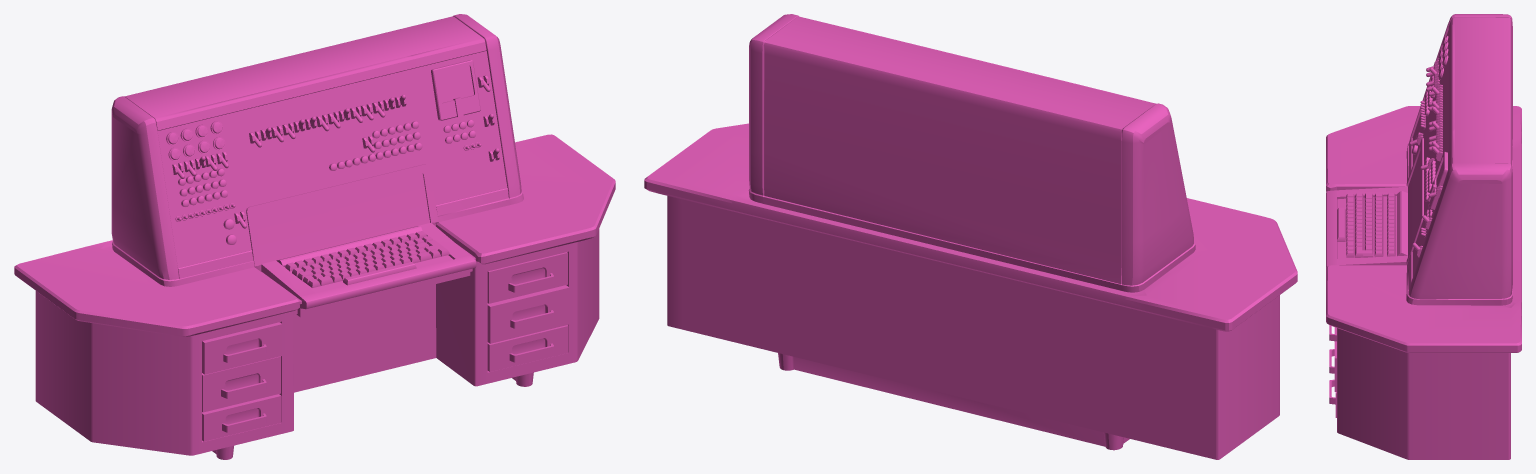
File: UNIVAC.glb
3 renders of one model, left to right at view 1: azimuth 30°, elevation 25°; view 2: azimuth 150°, elevation 25°; view 3: azimuth 270°, elevation 25°, orthographic. The views are drawn at different scales.
Parts seen in each view (by area): view 1: computer_Computer_Base_material_0; view 2: computer_Computer_Base_material_0; view 3: computer_Computer_Base_material_0.
Part boxes in pixels (box(x1,y1,x2,y2)): computer_Computer_Base_material_0: box(14, 14, 615, 459); computer_Computer_Base_material_0: box(644, 14, 1297, 459); computer_Computer_Base_material_0: box(1326, 14, 1521, 459).
Bounding box in the file's own units: 3.62 × 1.94 × 1.25.
